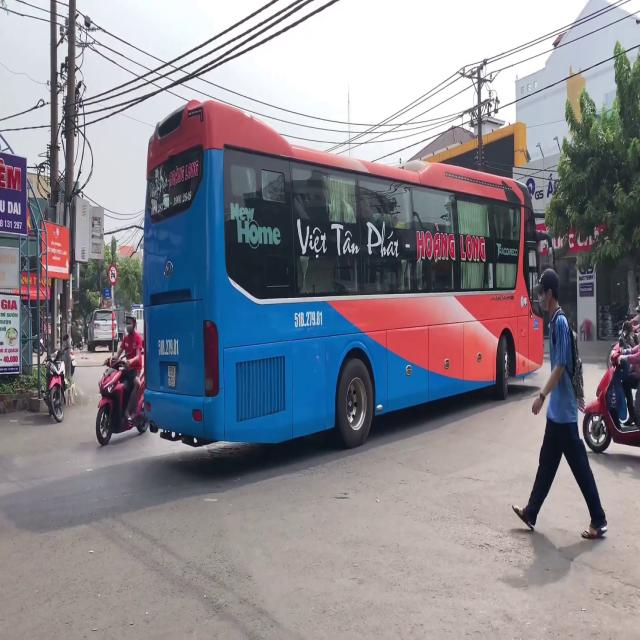bien_trang: (165, 367, 178, 388)
